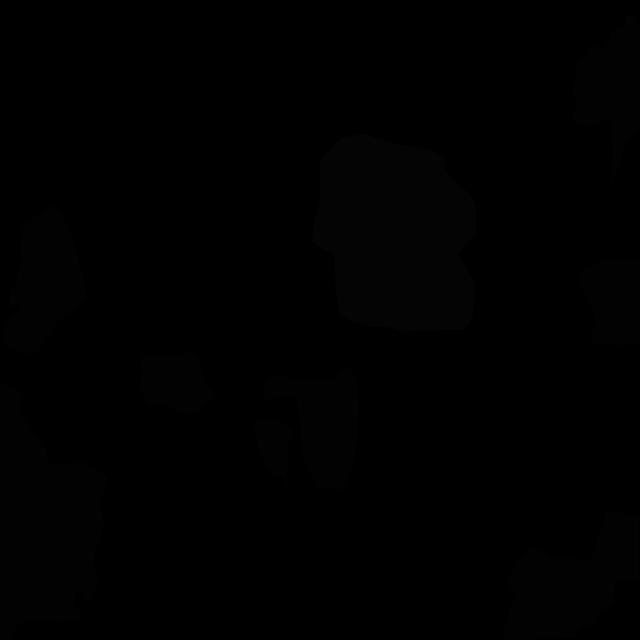cardboard: (0, 382, 108, 640), (504, 511, 639, 640), (3, 204, 87, 354), (263, 367, 359, 490), (572, 15, 640, 188), (580, 260, 640, 346), (140, 352, 218, 416), (254, 418, 293, 490)
soft_plastic: (312, 134, 476, 332)
